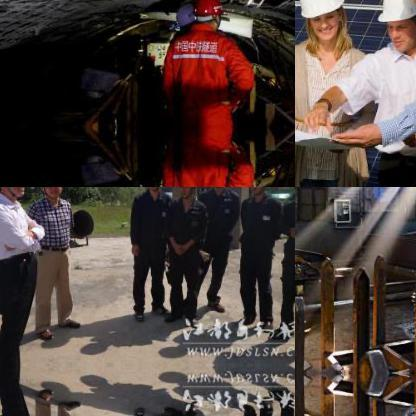Helmet: (375, 0, 415, 61), (295, 0, 346, 47), (188, 0, 224, 28), (37, 187, 65, 199), (176, 187, 201, 200), (247, 187, 272, 196), (144, 187, 166, 194)
